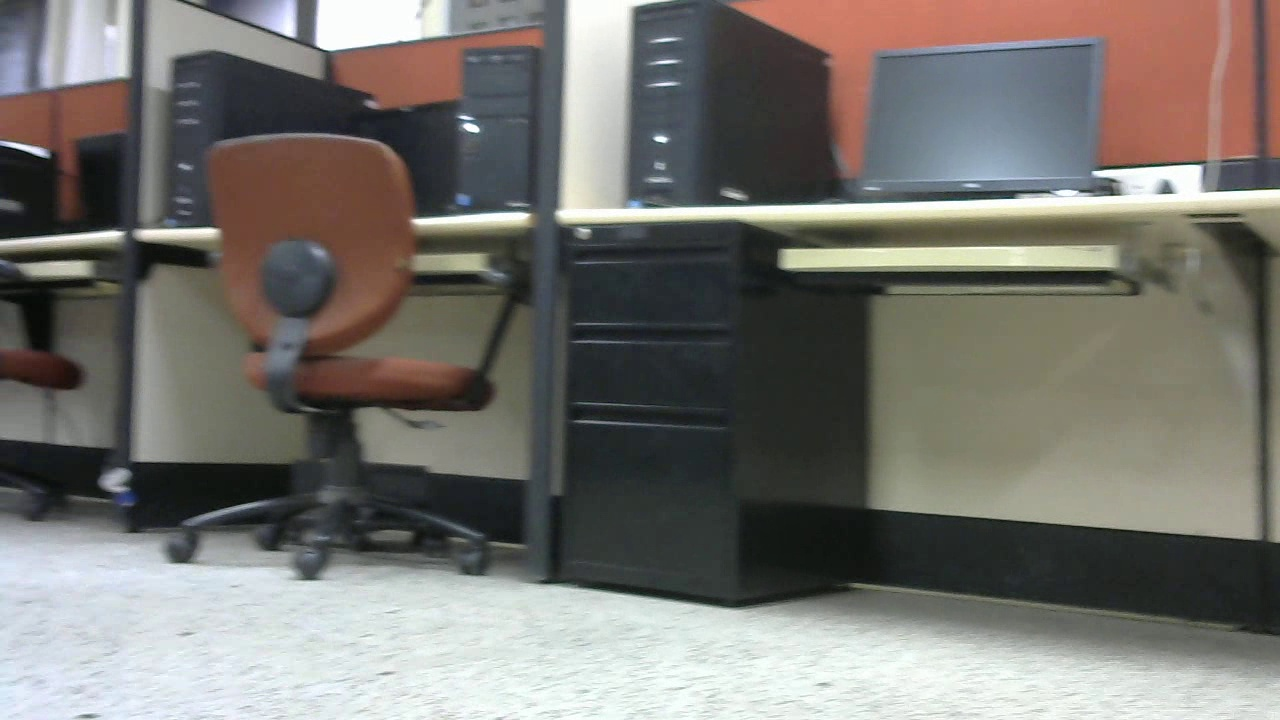chair: (171, 130, 522, 580)
